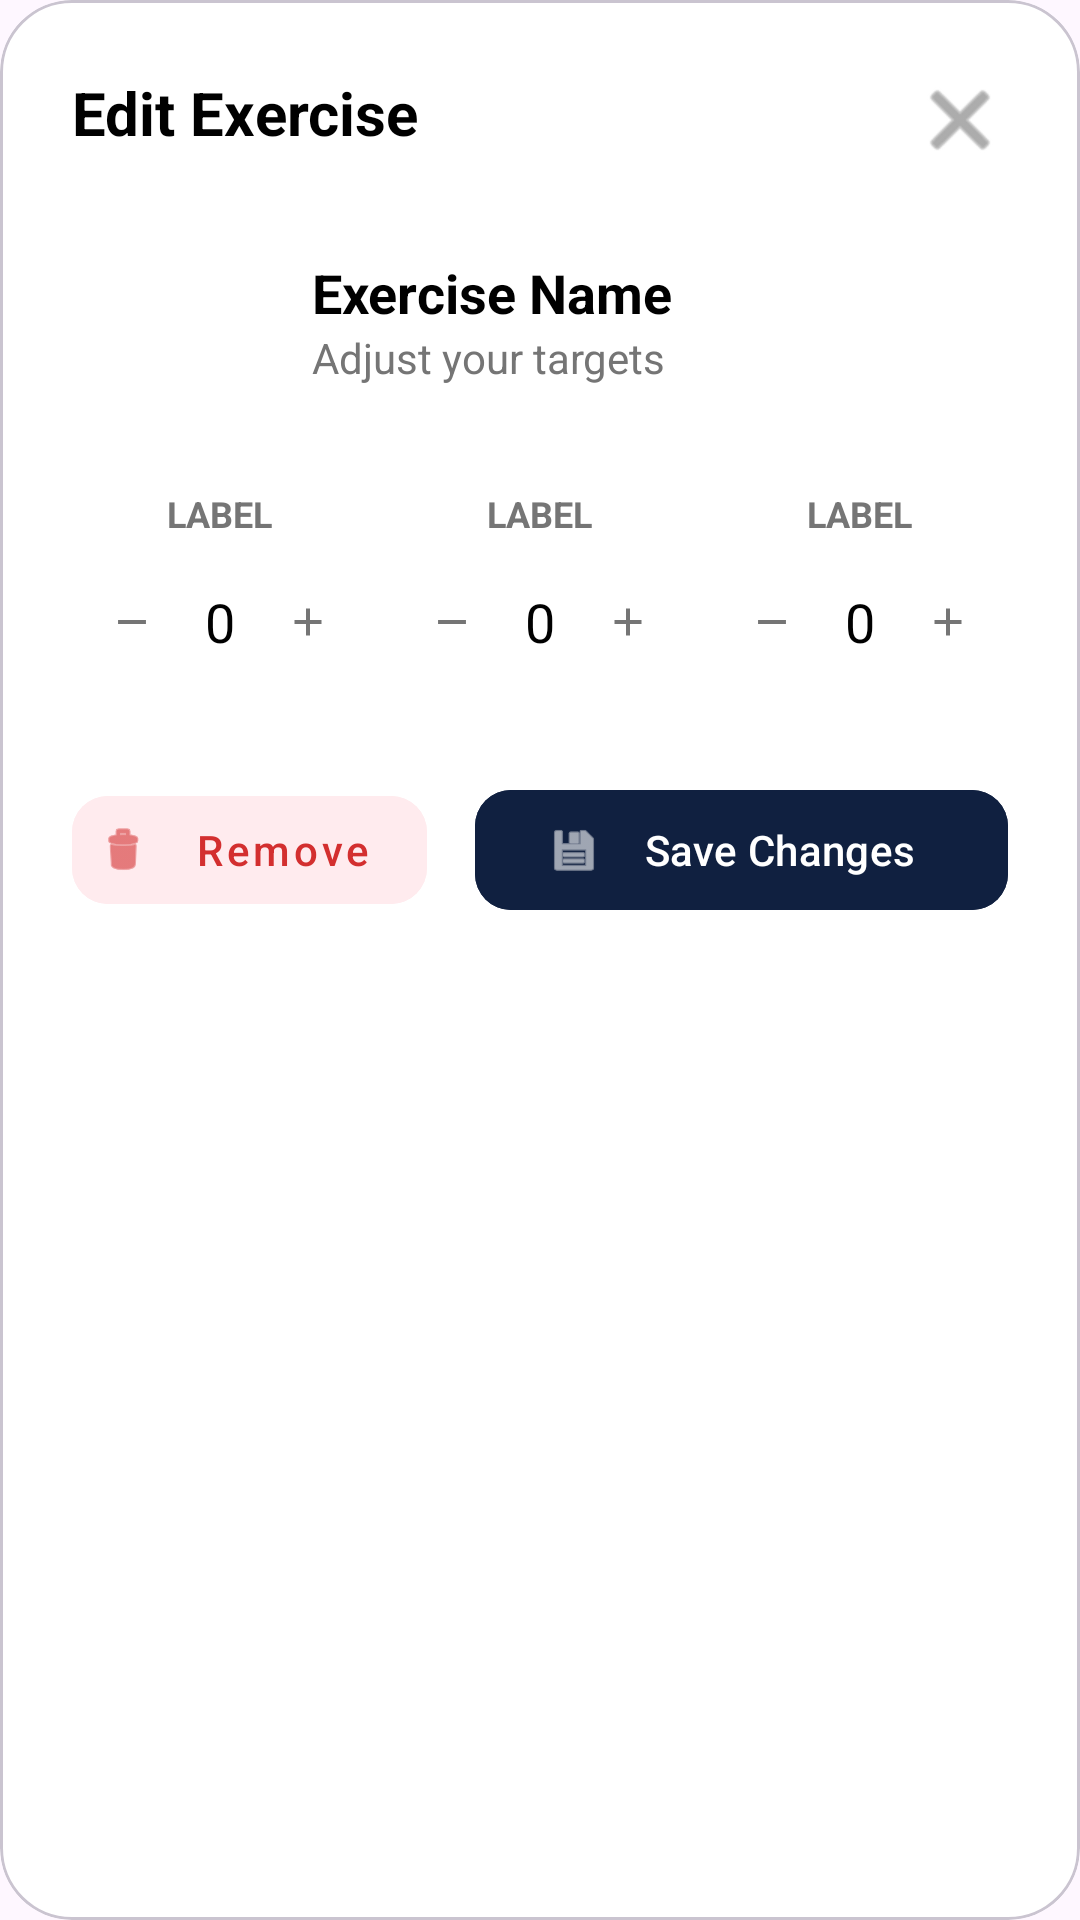

Screen size 1080×1920. Icon name, then its center in pixels as (x,y):
close clear cancel: (960,120)
plus: (308,622), (628,622), (948,622)
